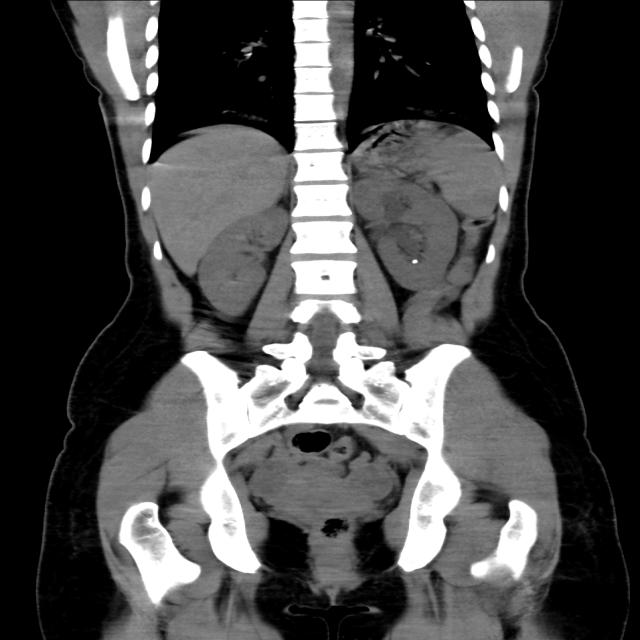kidneystone: (411, 259, 419, 264)
